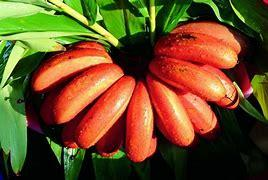banana: (32, 21, 255, 163)
